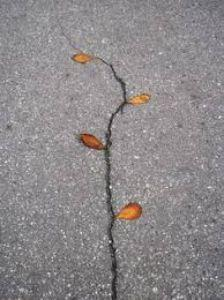crack: (92, 51, 131, 300), (49, 0, 92, 61)
